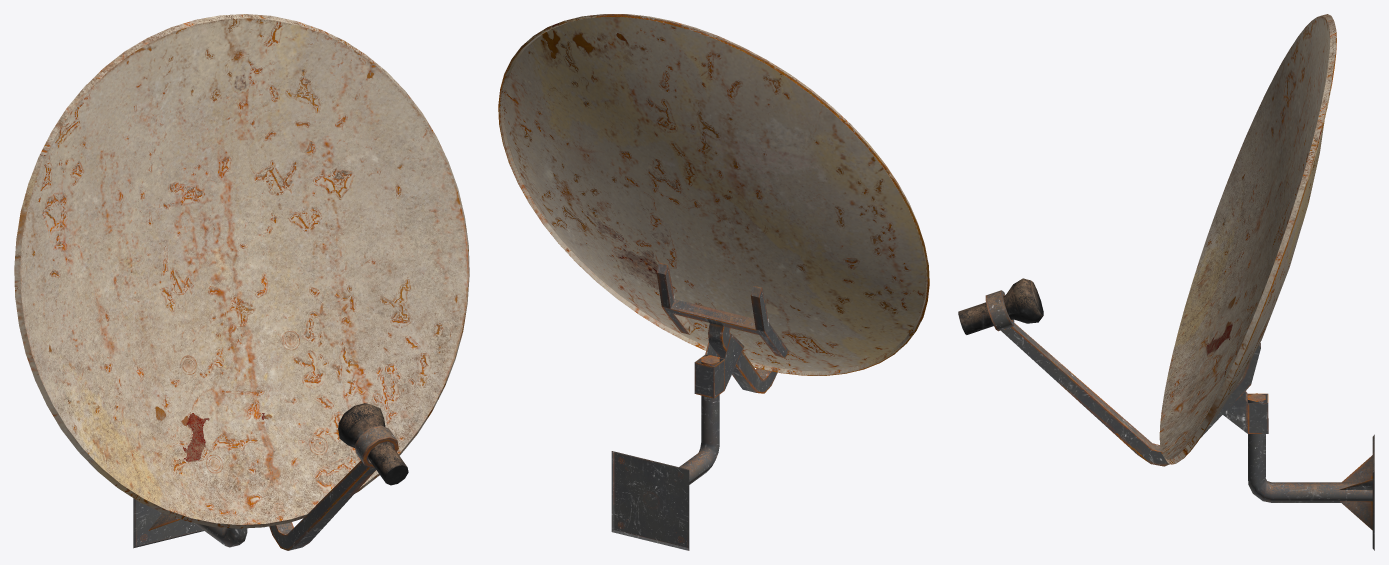
Rendered from Rusty_Satellite_Dish.glb.
3 renders of one model, left to right at view 1: azimuth 30°, elevation 25°; view 2: azimuth 150°, elevation 25°; view 3: azimuth 270°, elevation 25°, orthographic. The views are drawn at different scales.
Visible parts, largest first — view 1: 20_Satellite_dish_Satellite_antenna_0, 20_Satellite_dish_holder_Satellite_antenna_0; view 2: 20_Satellite_dish_Satellite_antenna_0, 20_Satellite_dish_holder_Satellite_antenna_0; view 3: 20_Satellite_dish_Satellite_antenna_0, 20_Satellite_dish_holder_Satellite_antenna_0.
Boxes of the visible parts, x1,y1,x2,y2 form: 20_Satellite_dish_Satellite_antenna_0: (14,14,469,550); 20_Satellite_dish_holder_Satellite_antenna_0: (133,498,247,548); 20_Satellite_dish_Satellite_antenna_0: (498,14,929,398); 20_Satellite_dish_holder_Satellite_antenna_0: (611,355,719,550); 20_Satellite_dish_Satellite_antenna_0: (958,14,1336,466); 20_Satellite_dish_holder_Satellite_antenna_0: (1247,393,1374,550).
Size of the model in its own units: 0.721 by 0.8245 by 0.6285.
1 material, 1 textured.
